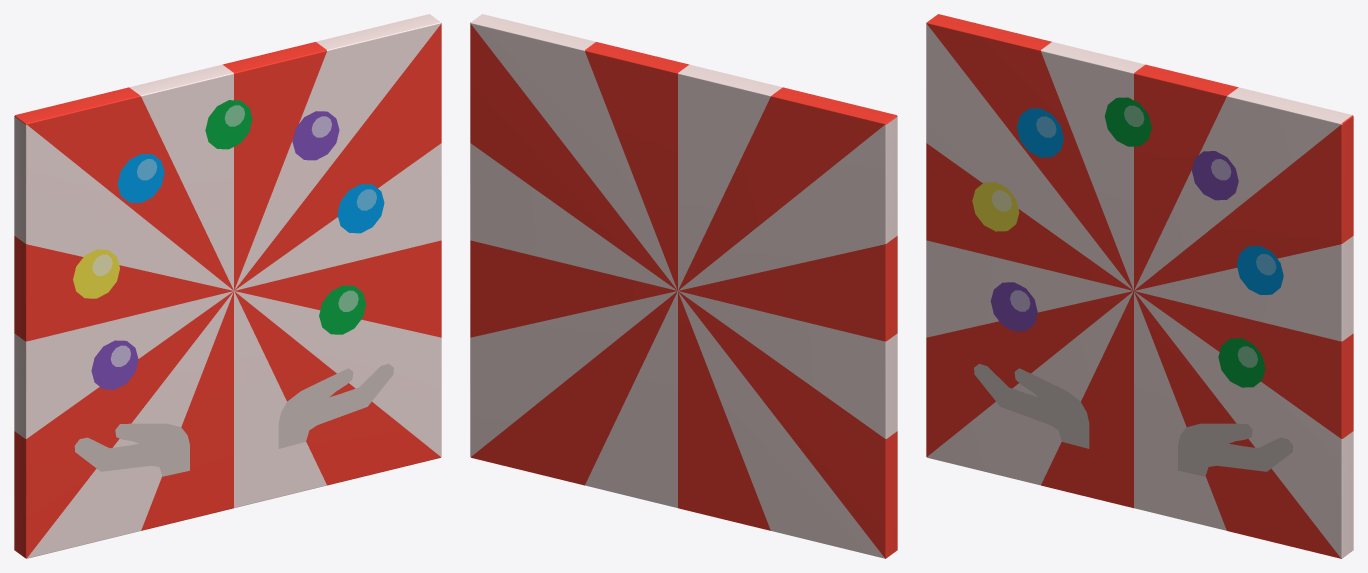
File: Public_14_Poster_circus_3.glb
3 views of the same model, side by side, from view 1: azimuth 30°, elevation 25°; view 2: azimuth 150°, elevation 25°; view 3: azimuth 330°, elevation 25° (orthographic).
Parts seen in each view (by area): view 1: Public_14_Poster_circus_3; view 2: Public_14_Poster_circus_3; view 3: Public_14_Poster_circus_3.
Part boxes in pixels (x1=…): Public_14_Poster_circus_3: x1=14, y1=14, x2=441, y2=558; Public_14_Poster_circus_3: x1=470, y1=14, x2=897, y2=558; Public_14_Poster_circus_3: x1=926, y1=14, x2=1353, y2=558.
Size of the model in its own units: 1.06 by 1.06 by 0.0553.
Materials: 1 (1 with a texture image).
